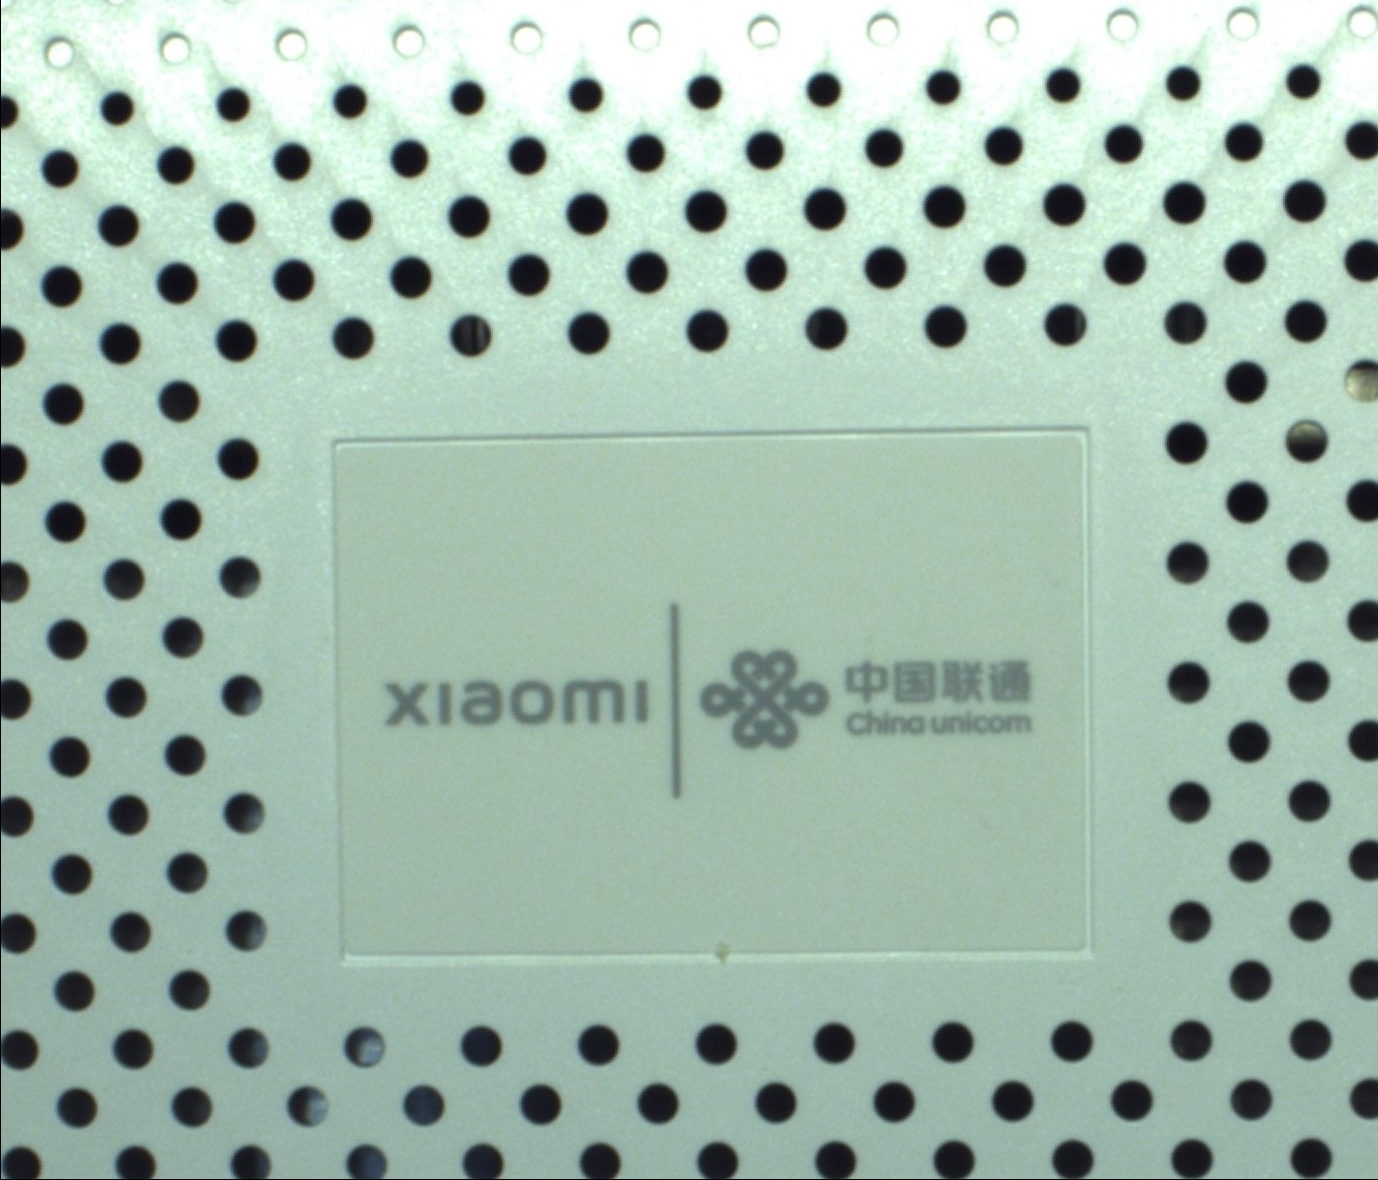MAC_NewUnicom: (370, 609, 1046, 793)
